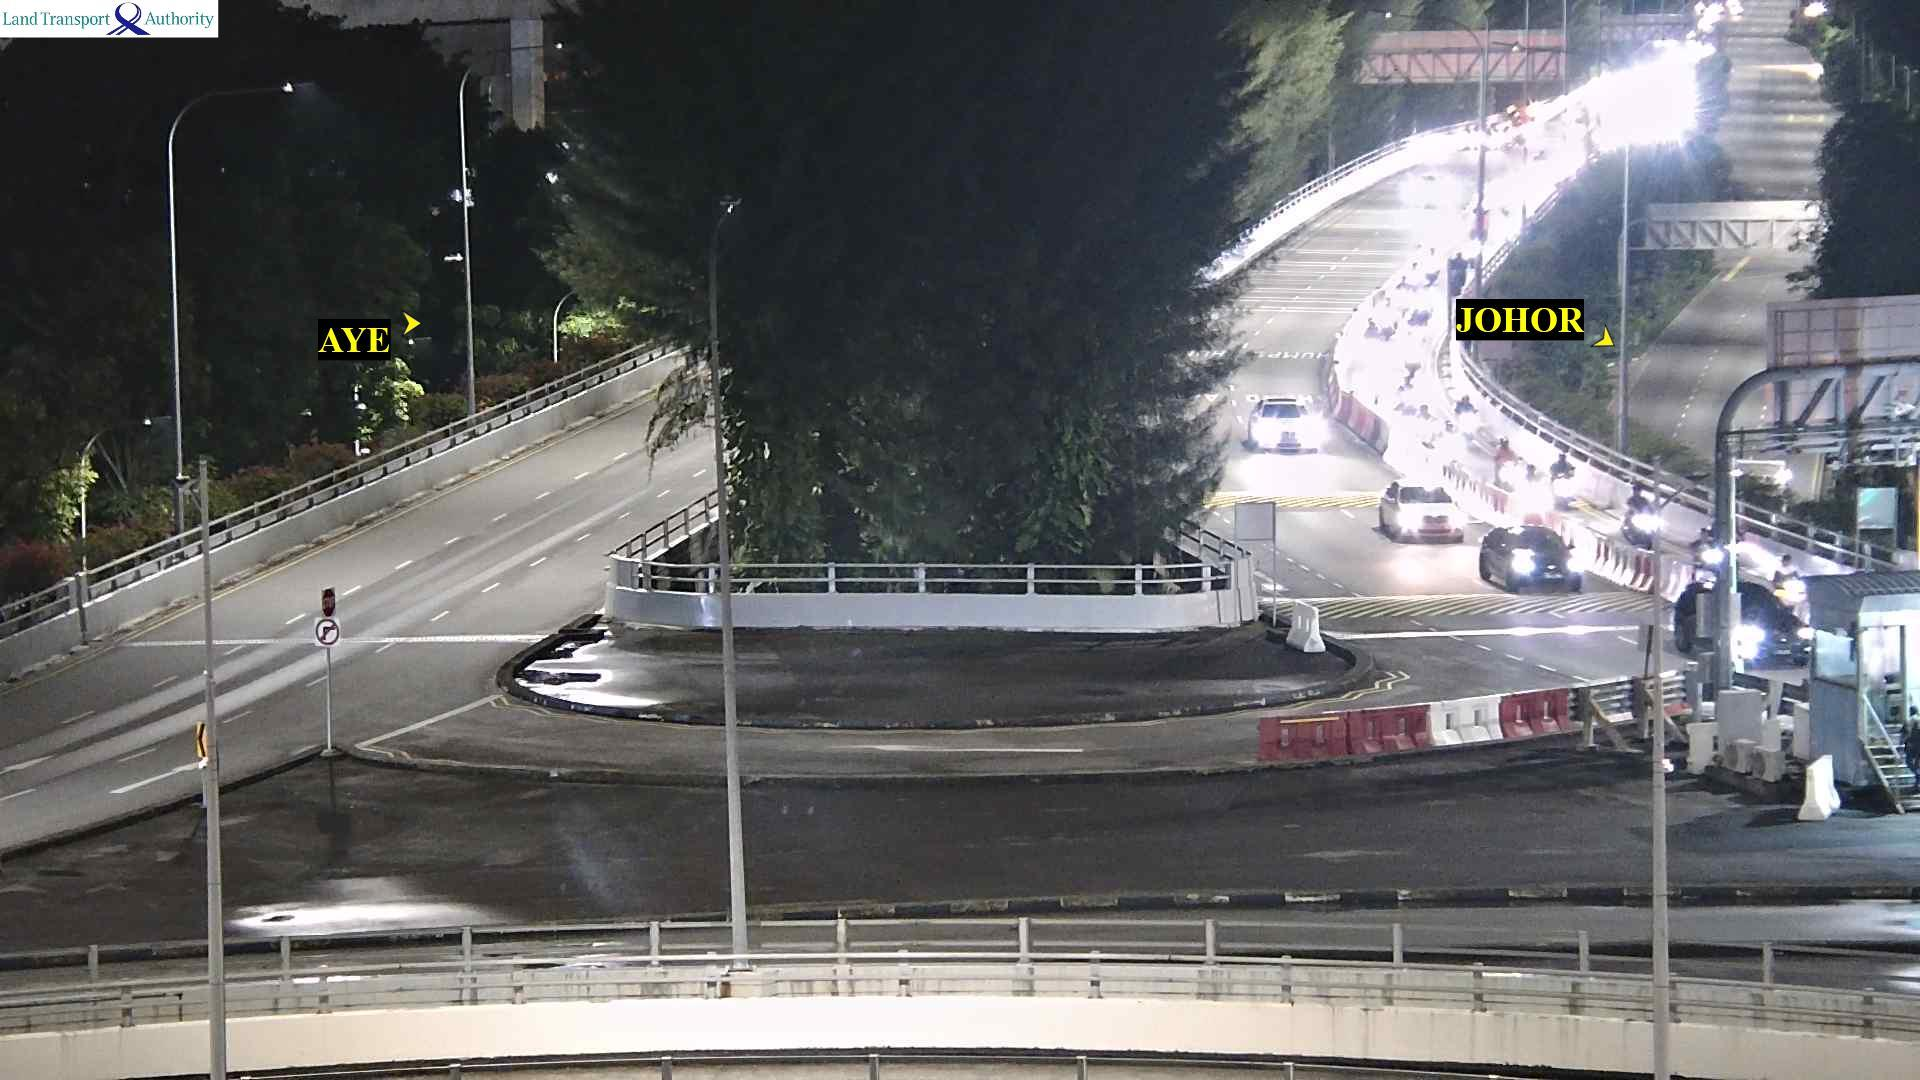vehicle-secondlink-johor: (1481, 521, 1578, 595), (1377, 485, 1466, 546), (1242, 397, 1321, 454), (1625, 485, 1652, 551), (1552, 451, 1576, 505), (1455, 397, 1480, 435), (1493, 435, 1514, 479)
